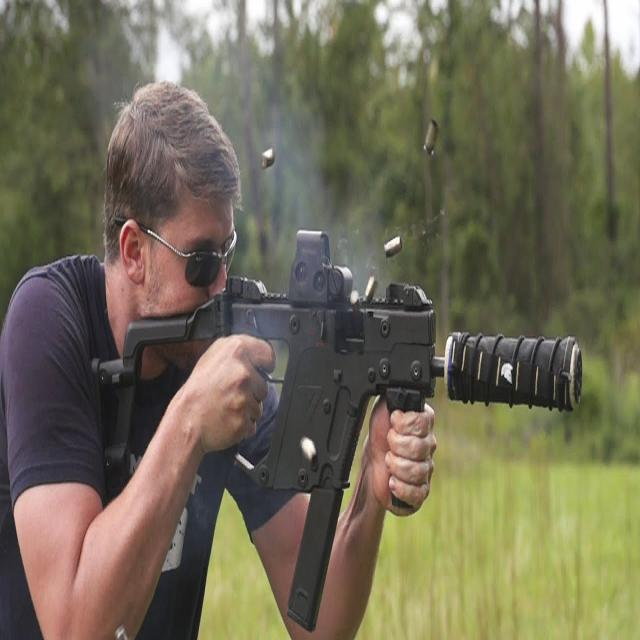SMG: (92, 230, 583, 632)
